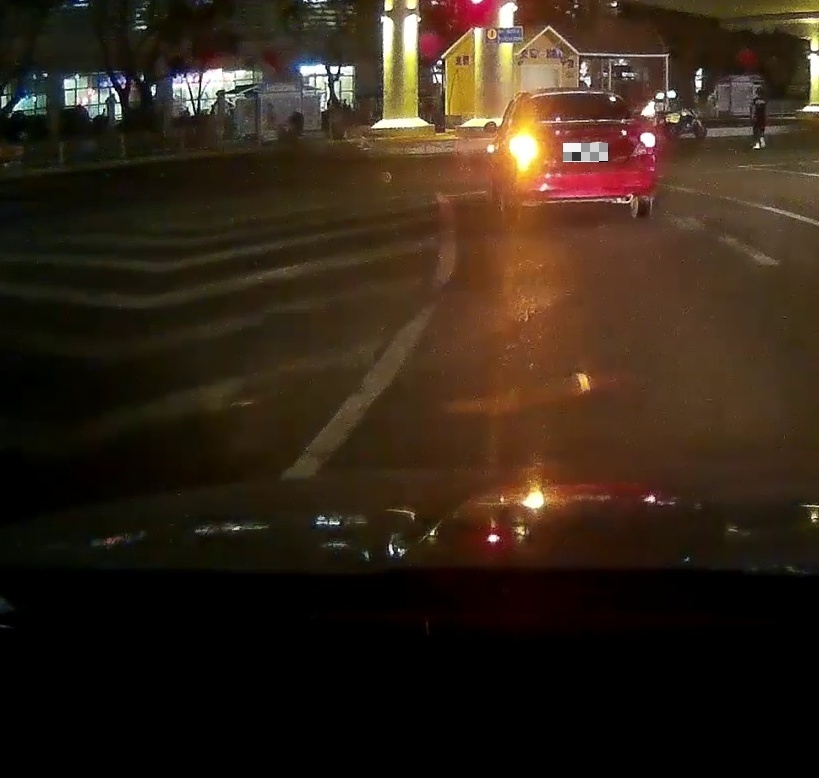L_light: (509, 135, 551, 158)
R_light: (627, 130, 656, 154)
T_light: (569, 92, 590, 97)
night-left: (504, 91, 658, 218)
plate_1: (563, 143, 608, 162)
